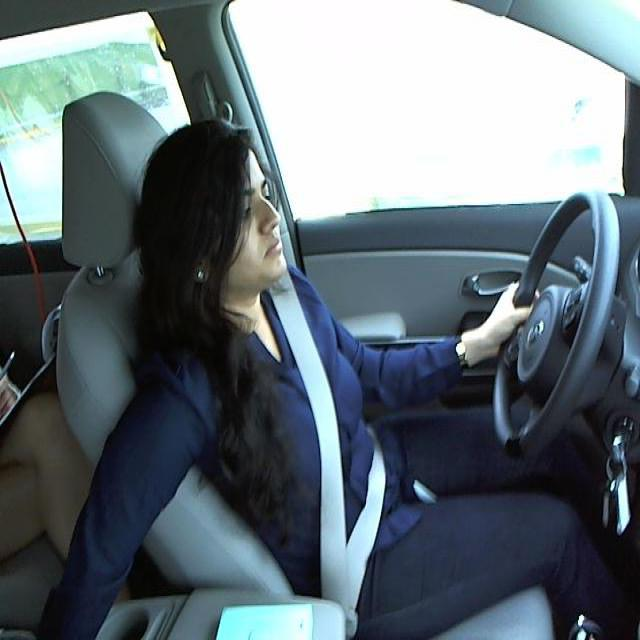seatbelt: (280, 309, 396, 592)
